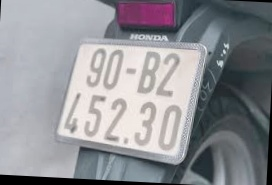Bien-so: (52, 45, 199, 170)
